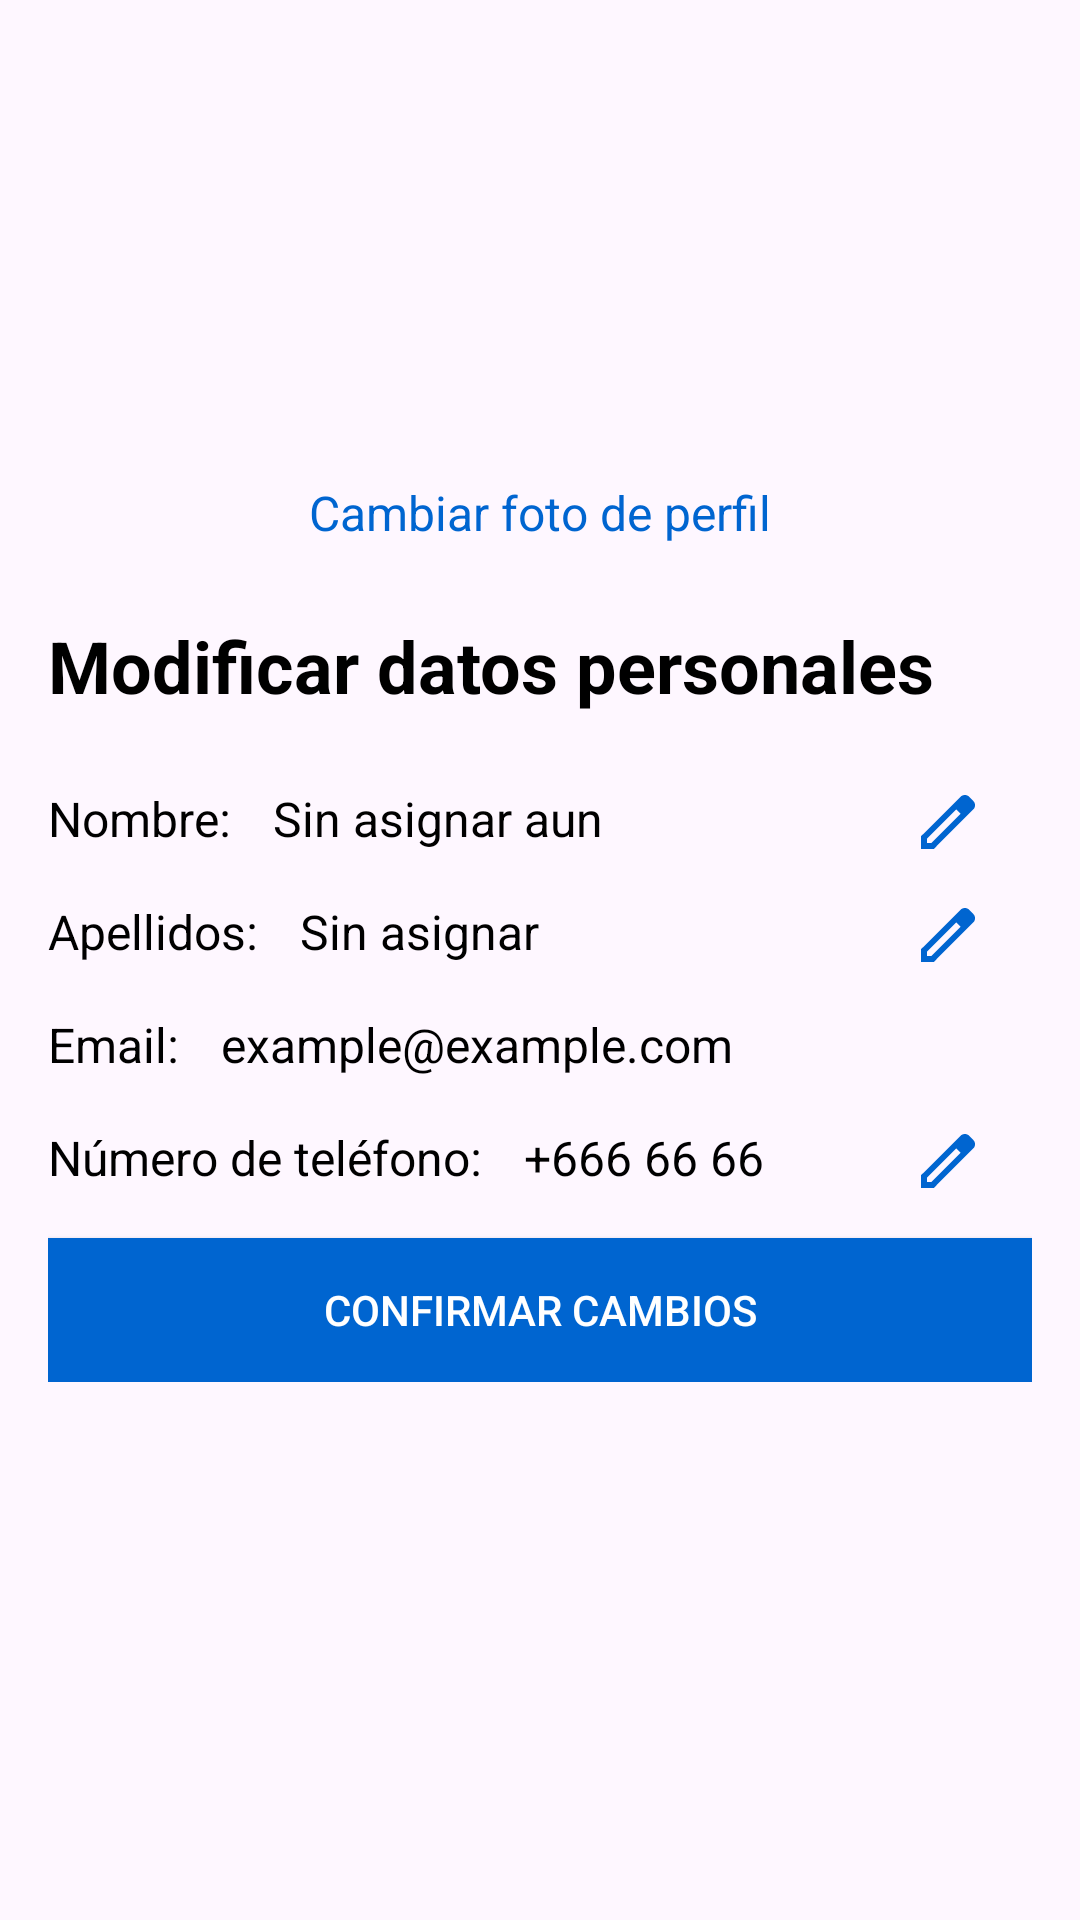

Where to tap for icons on this 1080*1920 app screen, as [x,y]:
Editar Apellidos: [948,935]
Editar Nombre: [948,822]
Editar Número de teléfono: [948,1161]
